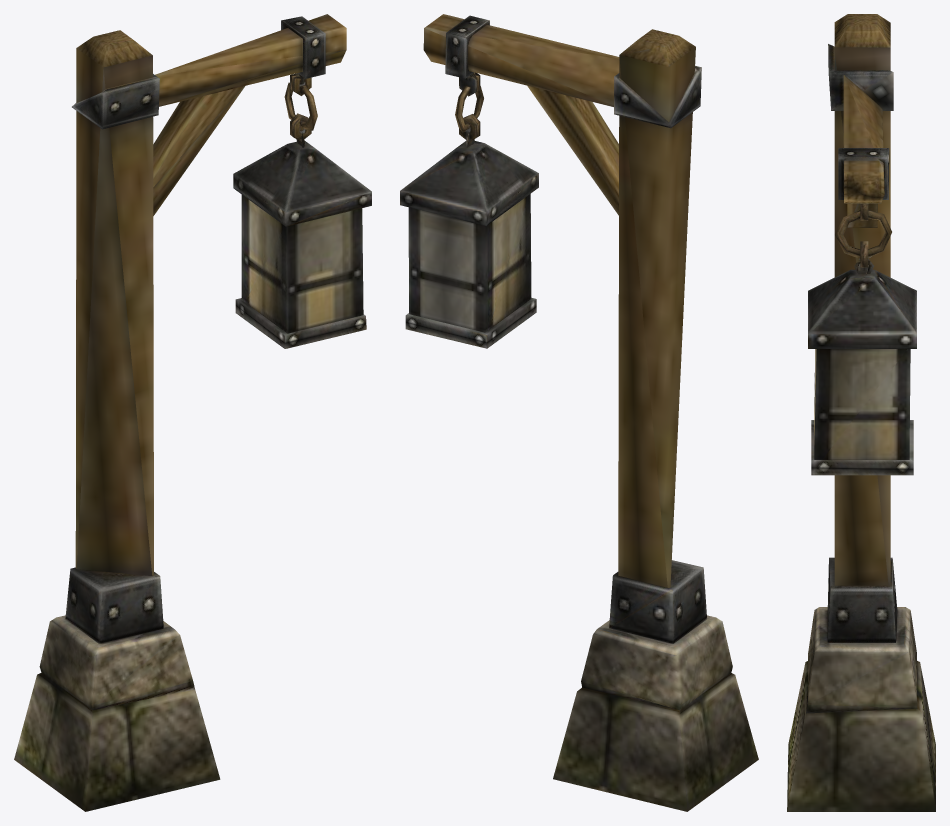
The model's file is prop-lantern-post.glb.
The picture shows the model from 3 angles, left to right: view 1: azimuth 30°, elevation 25°; view 2: azimuth 150°, elevation 25°; view 3: azimuth 270°, elevation 25°; orthographic projection. The views are drawn at different scales.
Size of the model in its own units: 0.4033 by 0.9521 by 0.1699.
Materials: 1 (1 with a texture image).
